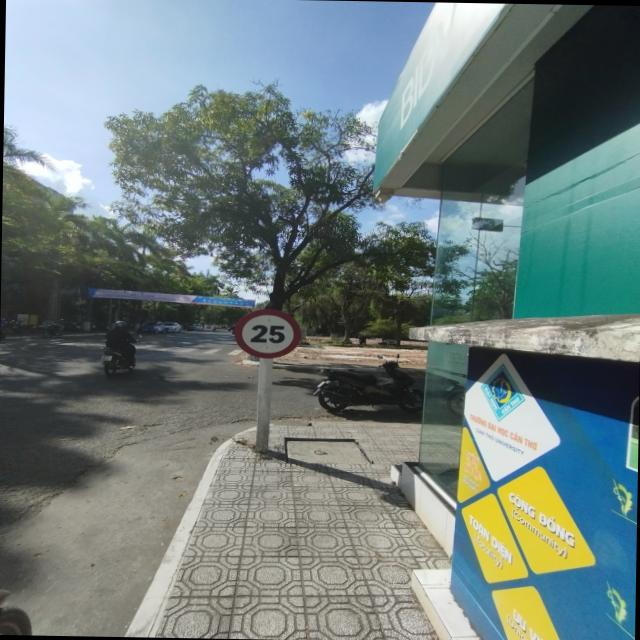Tre_Em: (233, 306, 303, 359)
